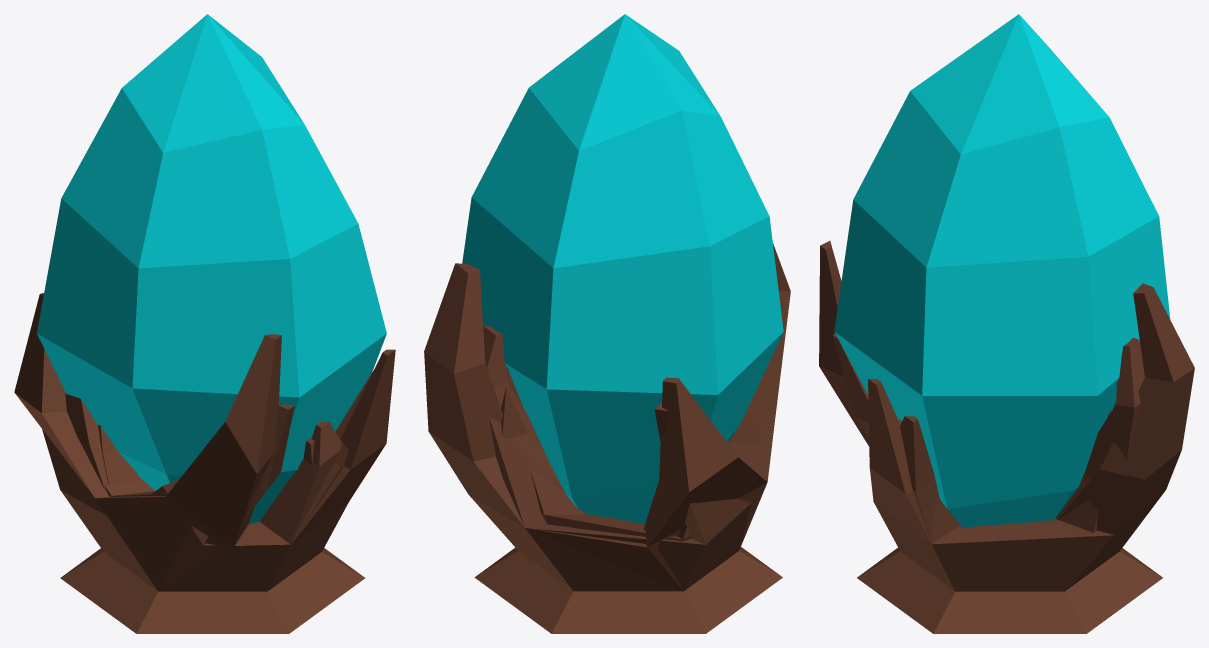
The model's file is PylonModel.fbx.
3 views of the same model, side by side, from view 1: azimuth 30°, elevation 25°; view 2: azimuth 150°, elevation 25°; view 3: azimuth 270°, elevation 25° (orthographic).
Visible parts, largest first — view 1: Pylon lvl3, PylonHolder lvl3, PylonHolder lvl1, PylonHolder lvl2, PylonHolder lvl0; view 2: Pylon lvl3, PylonHolder lvl3, PylonHolder lvl1, PylonHolder lvl2, PylonHolder lvl0; view 3: Pylon lvl3, PylonHolder lvl1, PylonHolder lvl3, PylonHolder lvl2, PylonHolder lvl0.
Part boxes in pixels (left/top/right/bottom): Pylon lvl3: left=37, top=14, right=386, bottom=524; PylonHolder lvl3: left=14, top=293, right=395, bottom=591; PylonHolder lvl1: left=60, top=392, right=364, bottom=633; PylonHolder lvl2: left=42, top=369, right=374, bottom=543; PylonHolder lvl0: left=98, top=425, right=314, bottom=494; Pylon lvl3: left=462, top=14, right=783, bottom=524; PylonHolder lvl3: left=424, top=243, right=790, bottom=590; PylonHolder lvl1: left=469, top=367, right=782, bottom=633; PylonHolder lvl2: left=483, top=325, right=764, bottom=544; PylonHolder lvl0: left=529, top=409, right=760, bottom=541; Pylon lvl3: left=834, top=14, right=1170, bottom=527; PylonHolder lvl1: left=857, top=401, right=1165, bottom=633; PylonHolder lvl3: left=819, top=240, right=1194, bottom=544; PylonHolder lvl2: left=832, top=333, right=1144, bottom=543; PylonHolder lvl0: left=961, top=411, right=1111, bottom=542.
Bounding box in the file's own units: 4.93 × 9.9 × 5.9.
